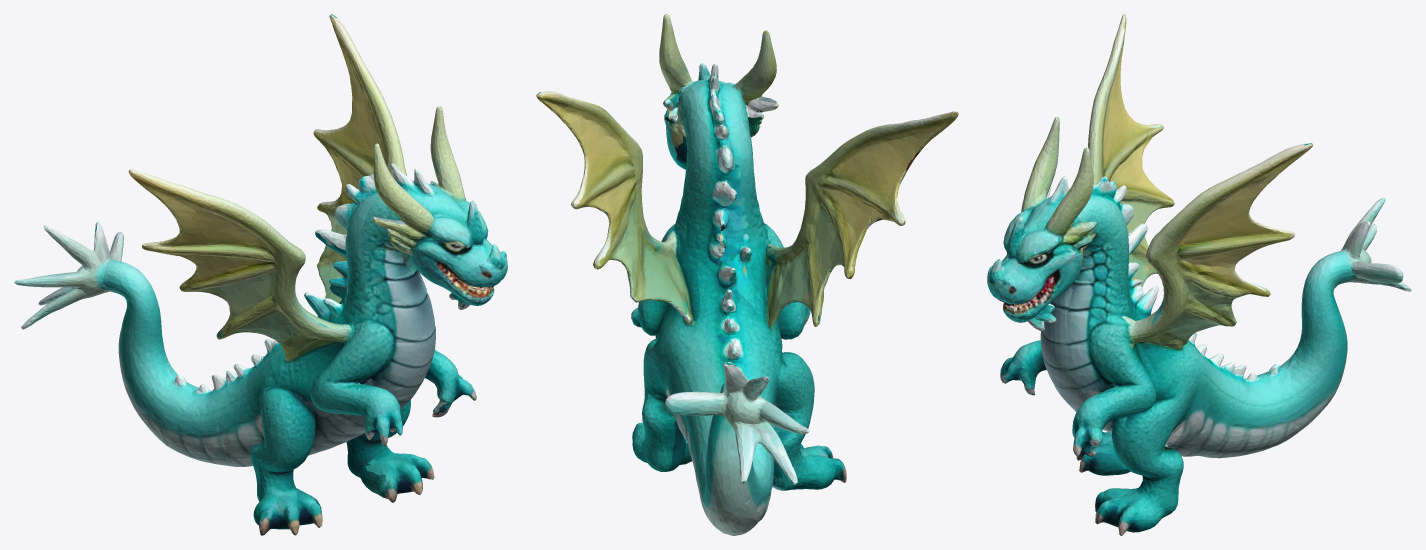
The model's file is boss_celestial_dragon.glb.
The picture shows the model from 3 angles, left to right: view 1: azimuth 30°, elevation 25°; view 2: azimuth 150°, elevation 25°; view 3: azimuth 270°, elevation 25°; orthographic projection. The views are drawn at different scales.
Parts seen in each view (by area): view 1: tmpyfq4k363.ply; view 2: tmpyfq4k363.ply; view 3: tmpyfq4k363.ply.
Boxes of the visible parts, x1,y1,x2,y2 form: tmpyfq4k363.ply: (14,14,507,535); tmpyfq4k363.ply: (536,14,958,535); tmpyfq4k363.ply: (987,14,1411,535).
Size of the model in its own units: 1.69 by 1.99 by 1.94.
1 material, 1 textured.
